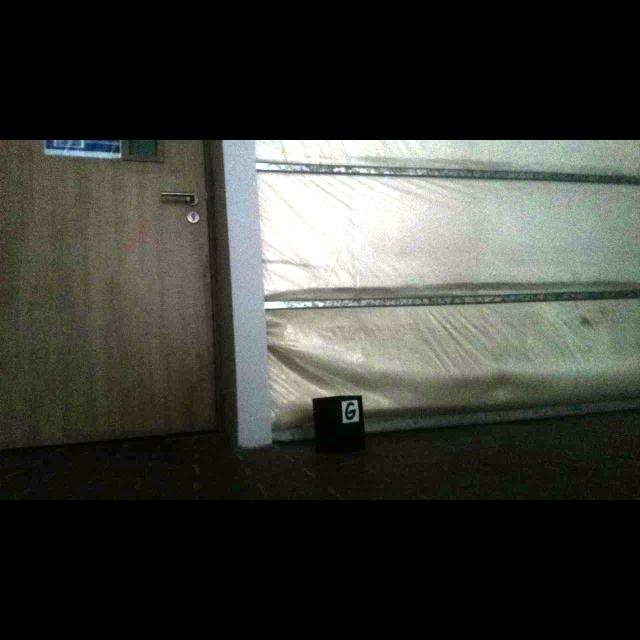G: (345, 402, 356, 420)
